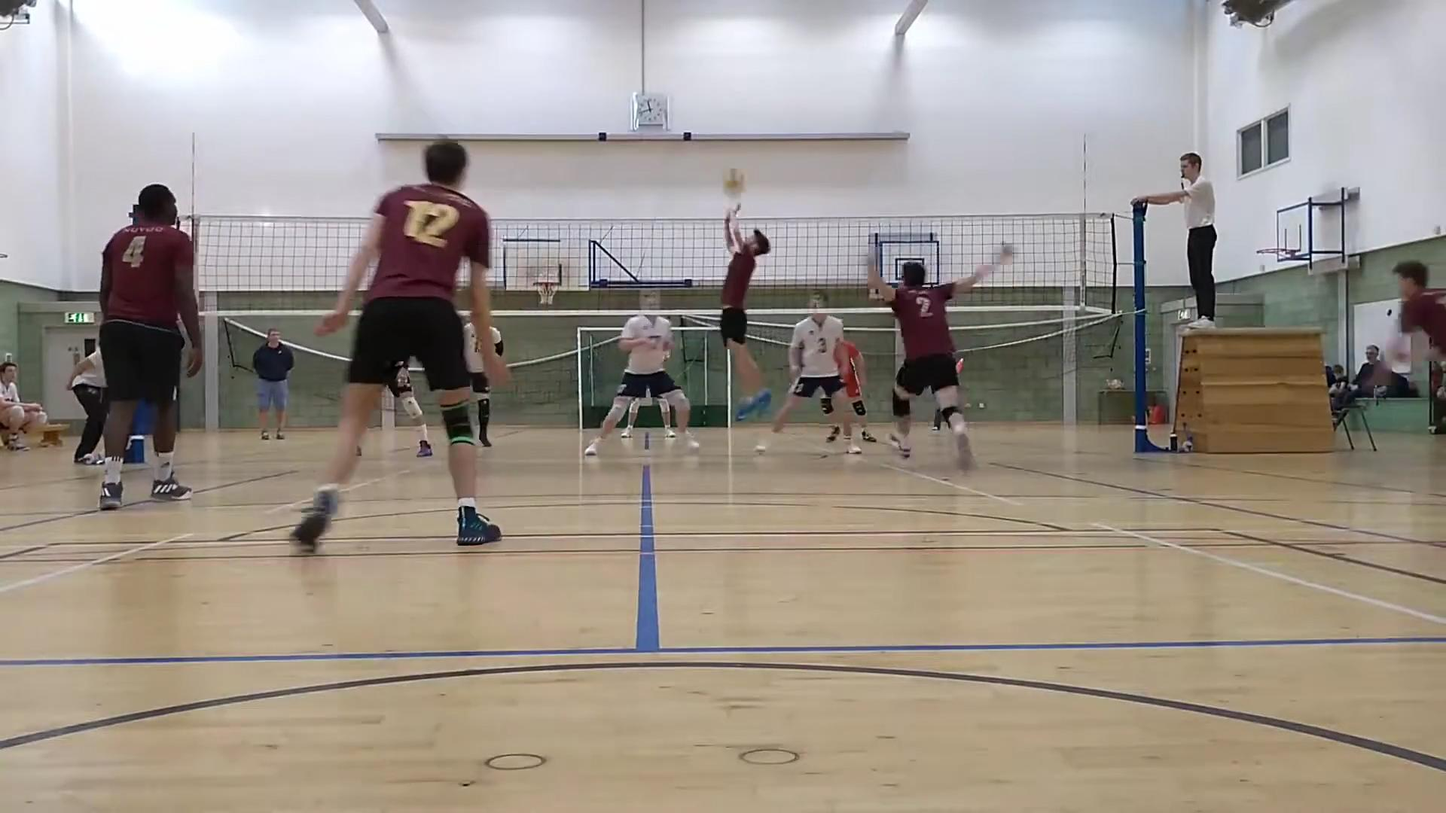alzata: (720, 202, 784, 419)
